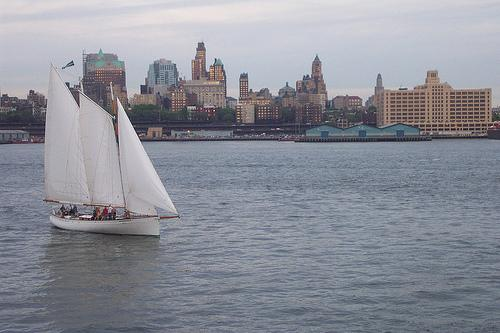Ship: (45, 63, 180, 238)
